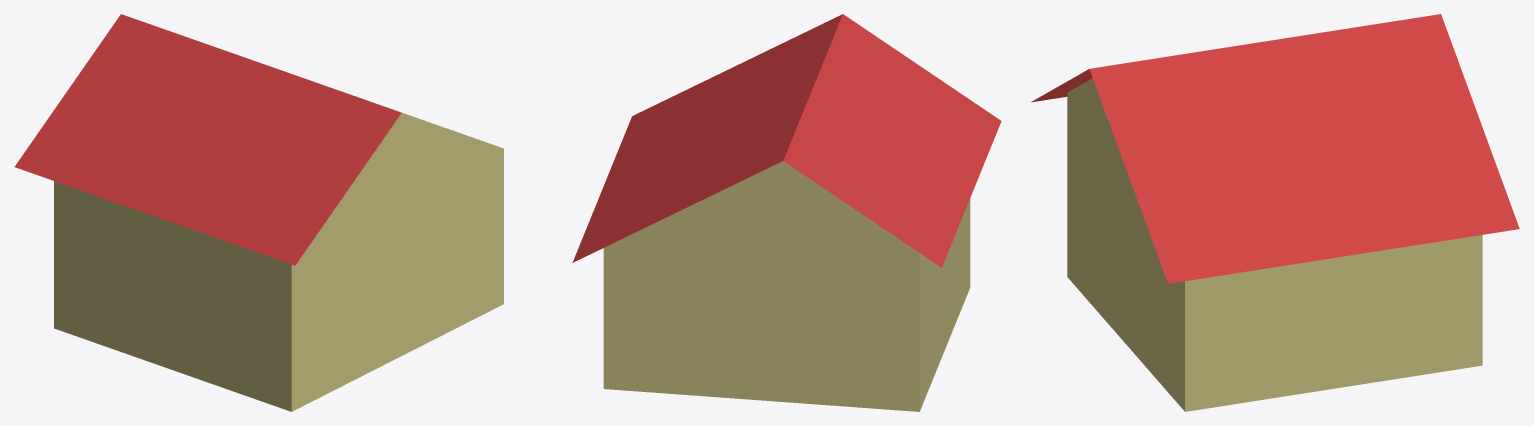
3 renders of one model, left to right at view 1: azimuth 30°, elevation 25°; view 2: azimuth 150°, elevation 25°; view 3: azimuth 270°, elevation 25°, orthographic. The views are drawn at different scales.
Bounding box in the file's own units: 17.48 × 17 × 10.29.
